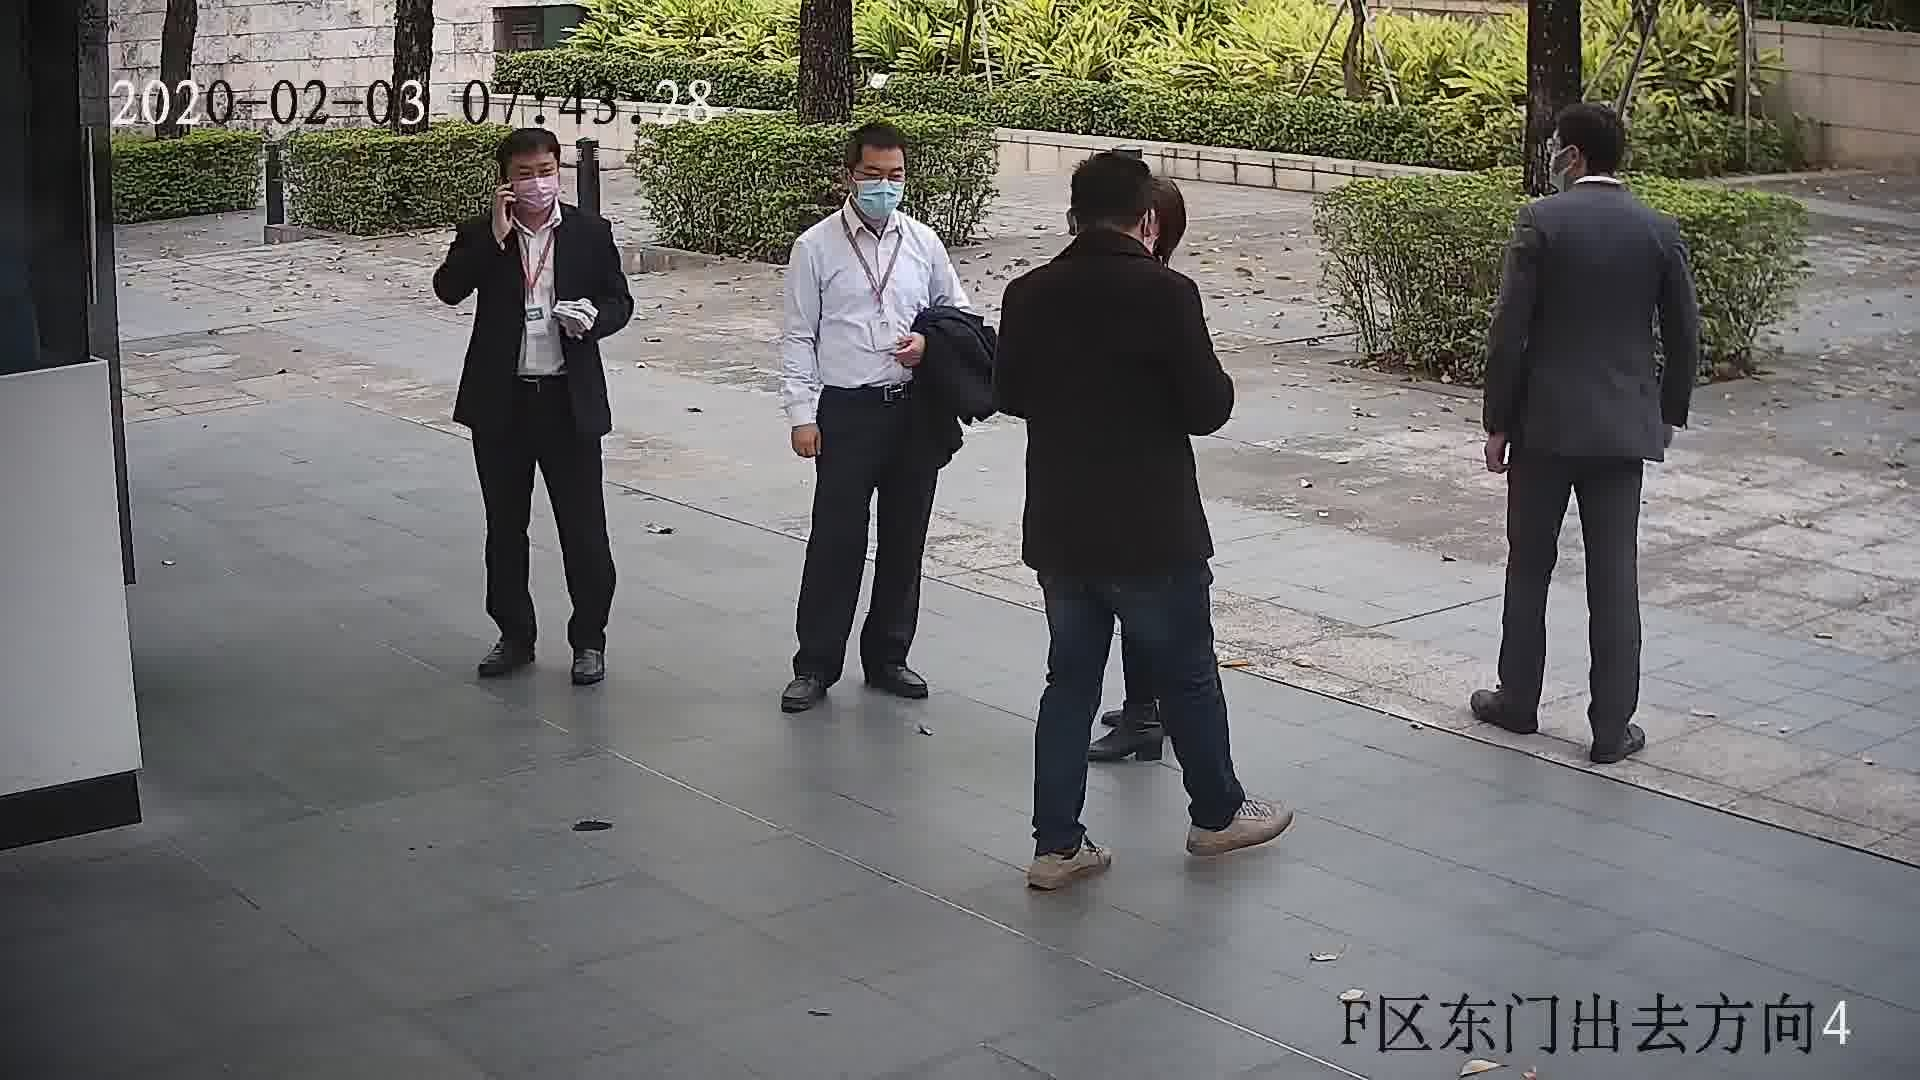face: (494, 149, 564, 218), (851, 143, 906, 214)
mask: (852, 176, 905, 219), (509, 175, 560, 214)
person: (1002, 152, 1205, 323), (1517, 98, 1677, 249), (792, 119, 949, 269), (456, 125, 614, 258)
